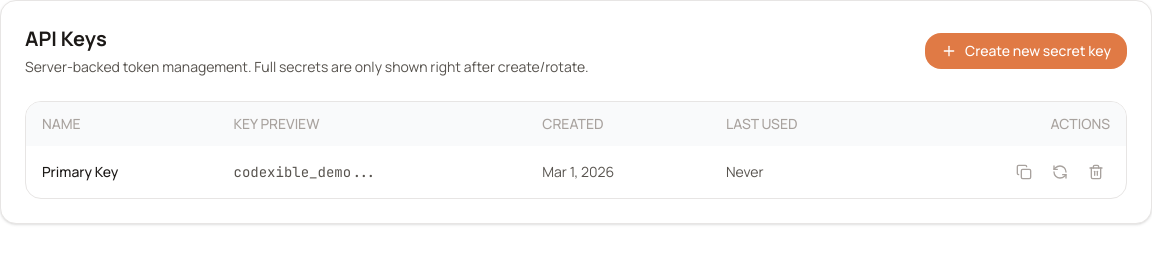
Scenario: ApiKeyManager server-backed workflow › revokes a key through backend API
expect the text "Primary Key" is shown: met, box [26, 146, 218, 198]
Click the button titled "revoke key" at coordinates (1096, 172), box [1082, 158, 1110, 186]
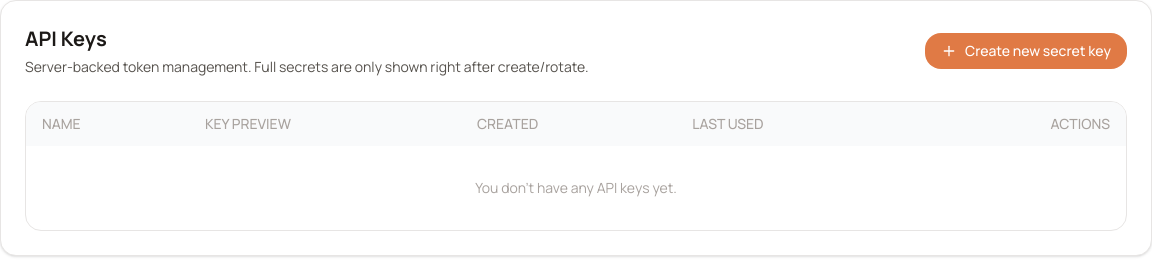
expect the text "Primary Key" is gone: met
